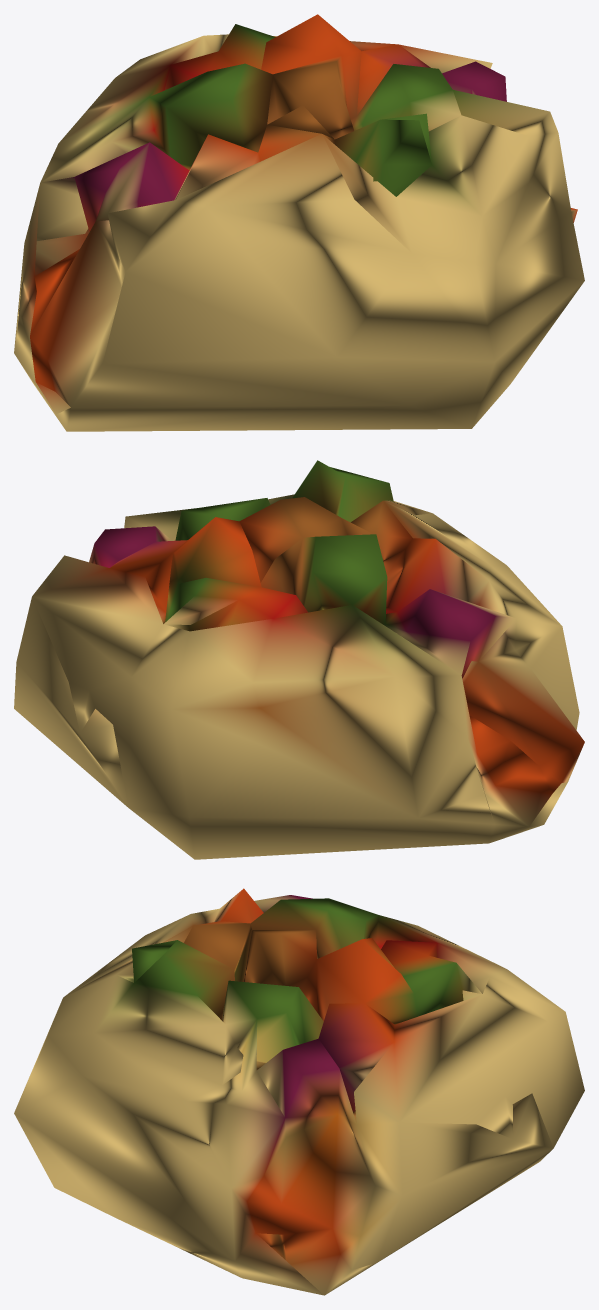
File: gen3d-burrito-lod1.glb
3 renders of one model, top to bottom at view 1: azimuth 30°, elevation 25°; view 2: azimuth 150°, elevation 25°; view 3: azimuth 270°, elevation 25°, orthographic. The views are drawn at different scales.
Parts seen in each view (by area): view 1: part_0; view 2: part_0; view 3: part_0.
Boxes of the visible parts, x1,y1,x2,y2 form: part_0: (14, 14, 584, 431); part_0: (14, 460, 584, 859); part_0: (14, 888, 584, 1295).
Bounding box in the file's own units: 1.92 × 0.9903 × 1.87.
